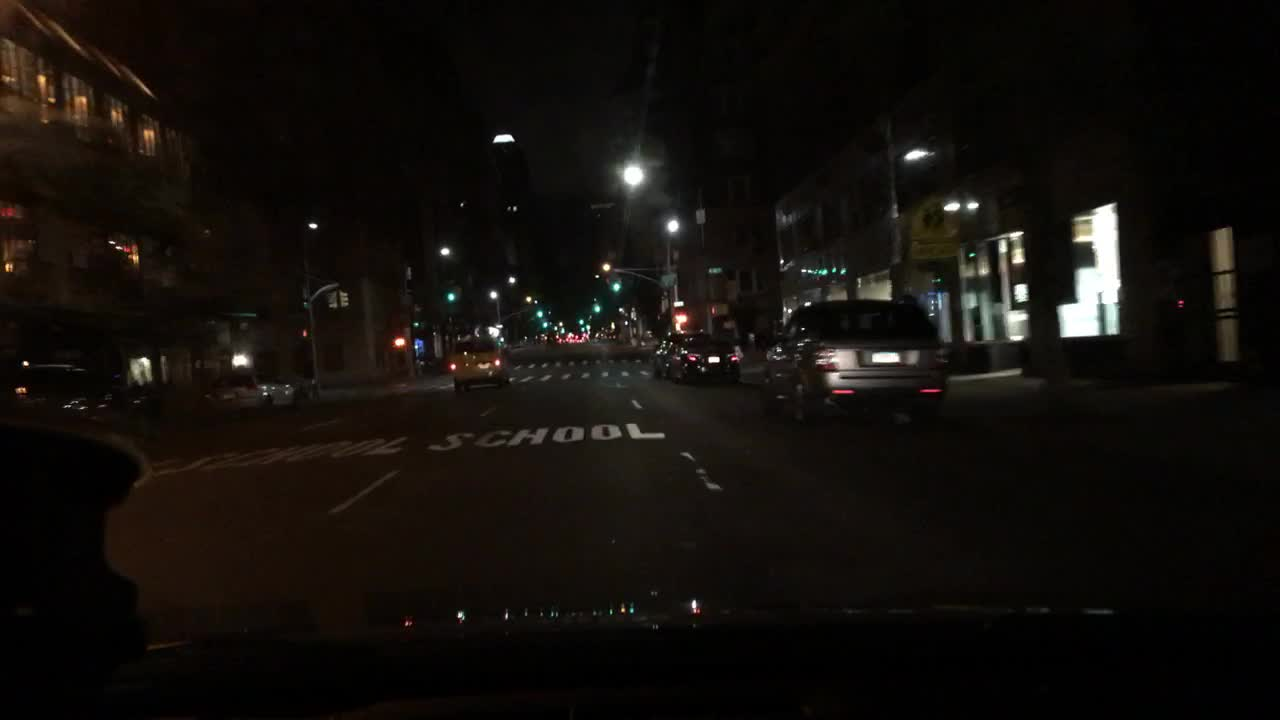car: (754, 295, 951, 428), (0, 359, 153, 432), (126, 381, 226, 428), (663, 332, 744, 388), (209, 366, 307, 412), (447, 329, 511, 389), (651, 327, 708, 381), (570, 331, 585, 344), (553, 334, 568, 346)
traffic light: (707, 299, 729, 317), (391, 332, 408, 349), (609, 273, 621, 293), (444, 280, 455, 300), (671, 310, 688, 322), (325, 287, 334, 309), (533, 300, 543, 319), (590, 295, 600, 314), (298, 324, 309, 341), (337, 290, 347, 307)
traffic sign: (905, 192, 965, 258), (658, 273, 676, 288), (705, 263, 724, 275), (670, 297, 685, 307)
